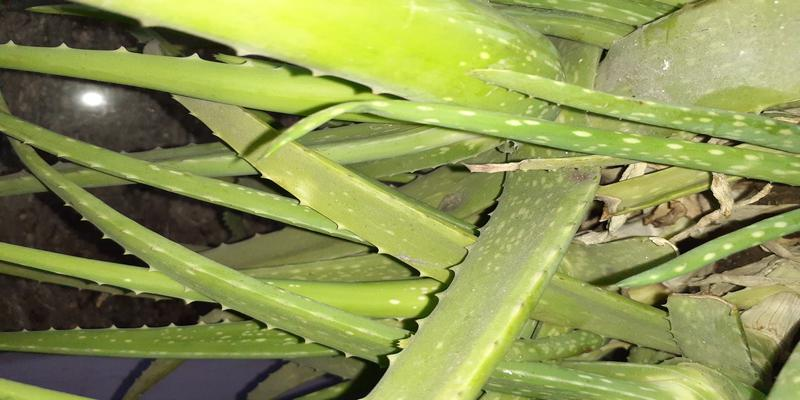Aloevera: (224, 19, 787, 396)
